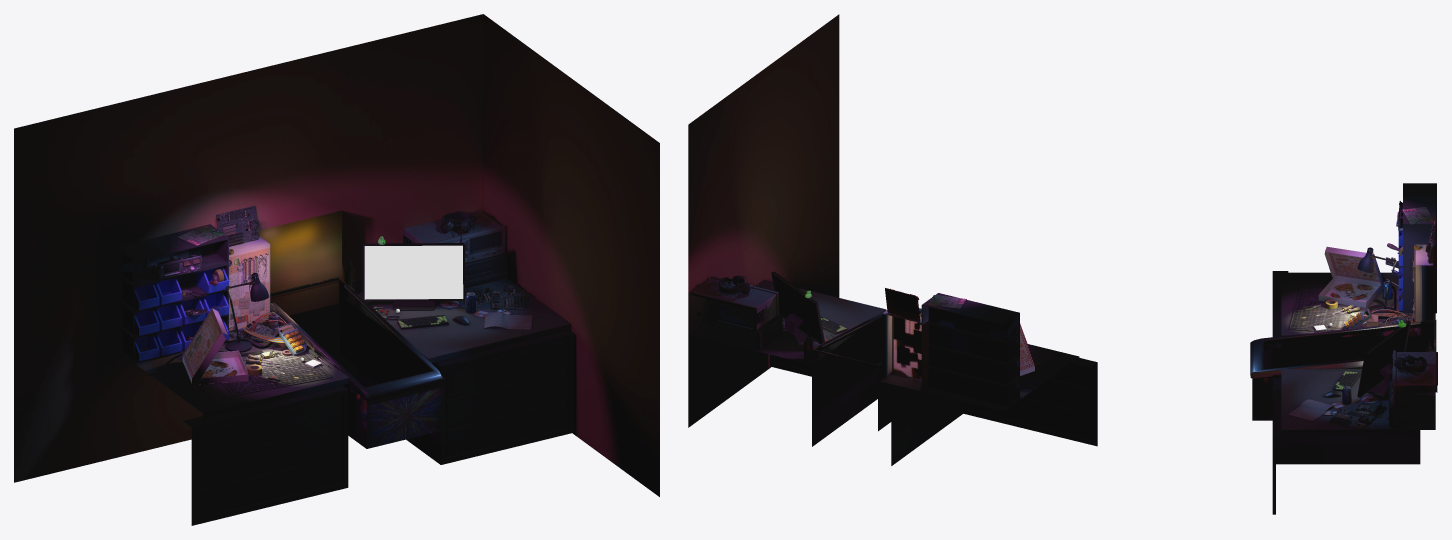
Rendered from room-RxdO38m6.glb.
3 renders of one model, left to right at view 1: azimuth 30°, elevation 25°; view 2: azimuth 150°, elevation 25°; view 3: azimuth 270°, elevation 25°, orthographic. The views are drawn at different scales.
Parts seen in each view (by area): view 1: wall_Baked, desktop.2_Baked, props.left.2_Baked, pinball body_Baked, desktop.left.spotlight_Baked, props.right_Baked, Screenplaceholder, props.left.1_Baked, pegboard_Baked, props.right.2_Baked, Monitor COMBINED_Baked; view 2: wall_Baked, desktop.2_Baked, props.left.2_Baked, pinball body_Baked, props.right_Baked, pegboard_Baked, desktop.left.spotlight_Baked, Monitor COMBINED_Baked, props.right.2_Baked, props.left.1_Baked; view 3: desktop.2_Baked, pinball body_Baked, desktop.left.spotlight_Baked, props.left.2_Baked, props.right_Baked, props.left.1_Baked, Monitor COMBINED_Baked, pegboard_Baked, props.right.2_Baked.
Part boxes in pixels (x1=…): wall_Baked: x1=14, y1=14, x2=659, y2=496; desktop.2_Baked: x1=183, y1=277, x2=573, y2=525; props.left.2_Baked: x1=115, y1=224, x2=282, y2=375; pinball body_Baked: x1=270, y1=276, x2=444, y2=448; desktop.left.spotlight_Baked: x1=115, y1=296, x2=349, y2=418; props.right_Baked: x1=403, y1=210, x2=532, y2=329; Screenplaceholder: x1=364, y1=245, x2=463, y2=299; props.left.1_Baked: x1=182, y1=272, x2=298, y2=385; pegboard_Baked: x1=216, y1=205, x2=270, y2=330; props.right.2_Baked: x1=345, y1=260, x2=475, y2=329; Monitor COMBINED_Baked: x1=362, y1=236, x2=464, y2=310; wall_Baked: x1=688, y1=14, x2=839, y2=427; desktop.2_Baked: x1=689, y1=279, x2=1097, y2=465; props.left.2_Baked: x1=921, y1=293, x2=1035, y2=406; pinball body_Baked: x1=811, y1=308, x2=921, y2=431; props.right_Baked: x1=691, y1=275, x2=782, y2=349; pegboard_Baked: x1=882, y1=288, x2=928, y2=389; desktop.left.spotlight_Baked: x1=878, y1=344, x2=1079, y2=411; Monitor COMBINED_Baked: x1=771, y1=271, x2=824, y2=345; props.right.2_Baked: x1=782, y1=316, x2=846, y2=362; props.left.1_Baked: x1=901, y1=323, x2=1035, y2=380; desktop.2_Baked: x1=1272, y1=271, x2=1435, y2=514; pinball body_Baked: x1=1250, y1=320, x2=1436, y2=420; desktop.left.spotlight_Baked: x1=1281, y1=267, x2=1435, y2=336; props.left.2_Baked: x1=1365, y1=183, x2=1436, y2=318; props.right_Baked: x1=1288, y1=350, x2=1437, y2=429; props.left.1_Baked: x1=1318, y1=246, x2=1412, y2=326; Monitor COMBINED_Baked: x1=1357, y1=320, x2=1410, y2=397; pegboard_Baked: x1=1410, y1=220, x2=1435, y2=321; props.right.2_Baked: x1=1333, y1=341, x2=1434, y2=404.
Size of the model in its own units: 3.38 by 2.44 by 2.22.
Materials: 13 (11 with a texture image).
